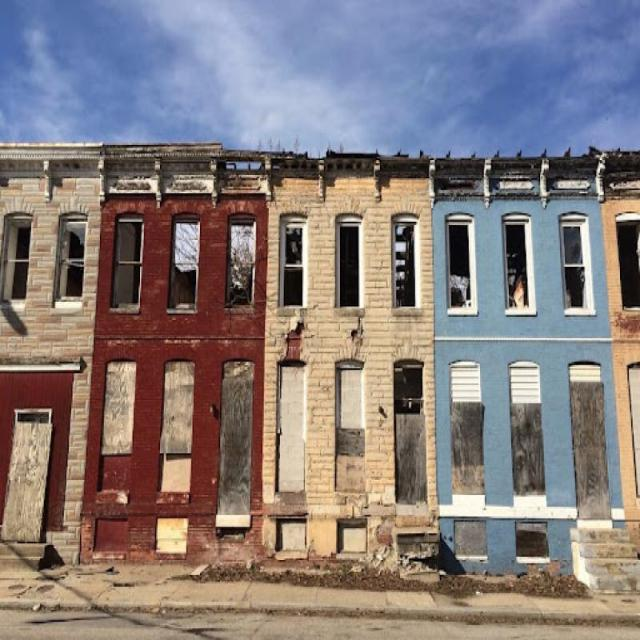House: (435, 154, 629, 578), (78, 144, 267, 564), (263, 154, 435, 573), (0, 144, 103, 565)
